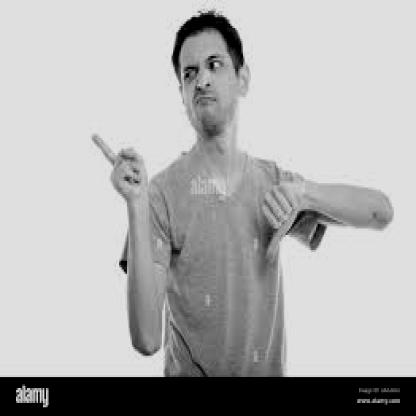Right: (84, 120, 160, 211)
Thumbs Down: (258, 177, 304, 269)
